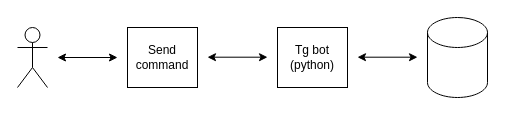
Some shapes in this 505 by 126 pixel diagram are drawn without their labels. The shapes that lost their labels are listed below. From the top down, each one's centre as x and y in pixels, then its label:
(x=32, y=57): User
(x=457, y=57): DB (Firebase)
